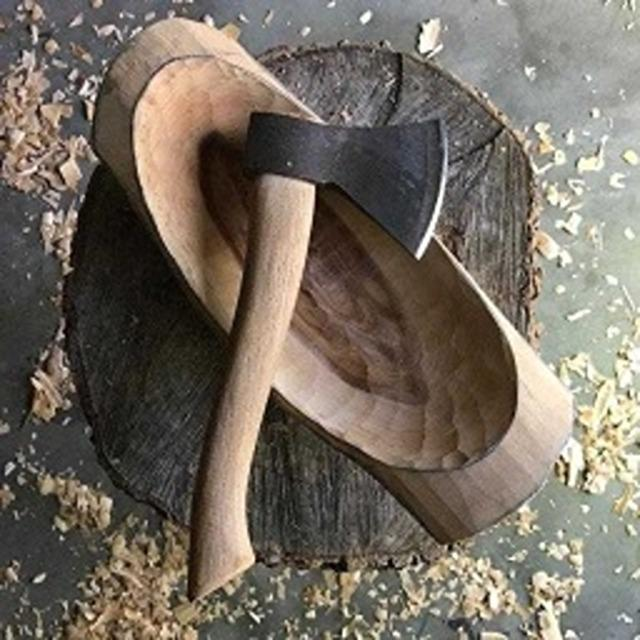ax: (176, 96, 464, 612)
